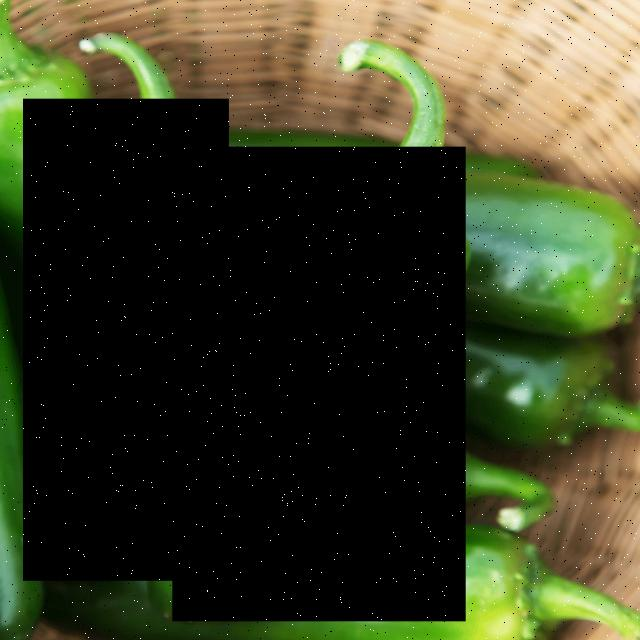Chili_Pepper: (173, 147, 466, 622), (23, 99, 230, 581)
